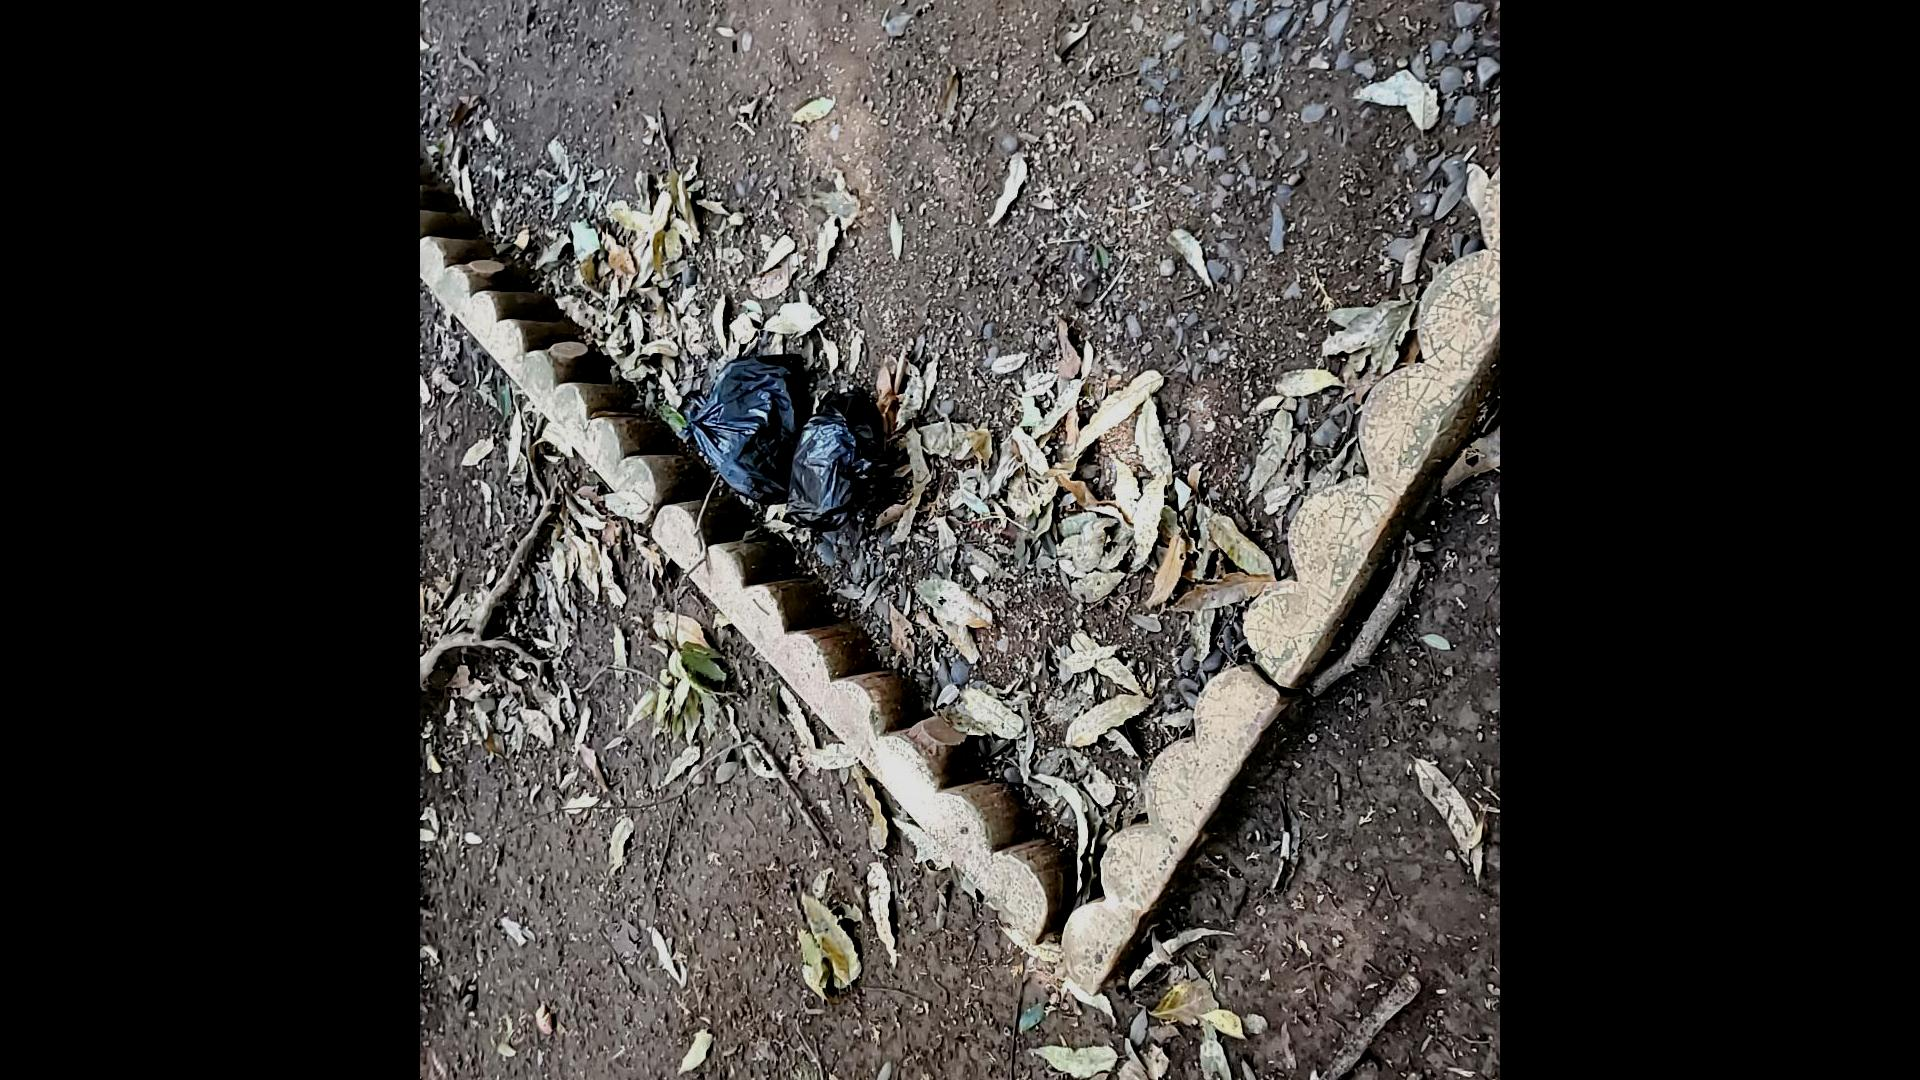black_bag: (666, 338, 823, 506), (770, 380, 903, 546)
